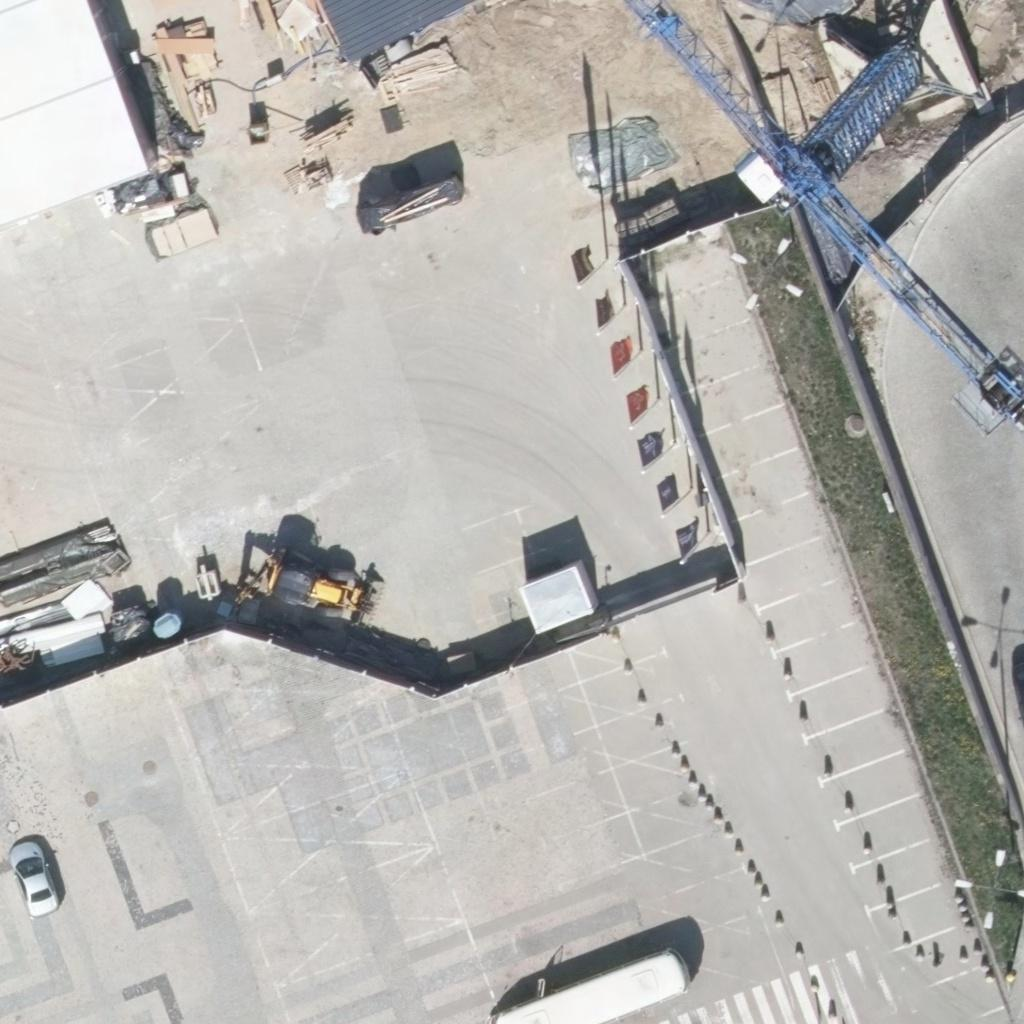koparka: (232, 543, 380, 632)
samochod_osobowy: (481, 946, 697, 1024), (4, 831, 67, 925)
zuraw_wiezowy: (603, 0, 1024, 435)
